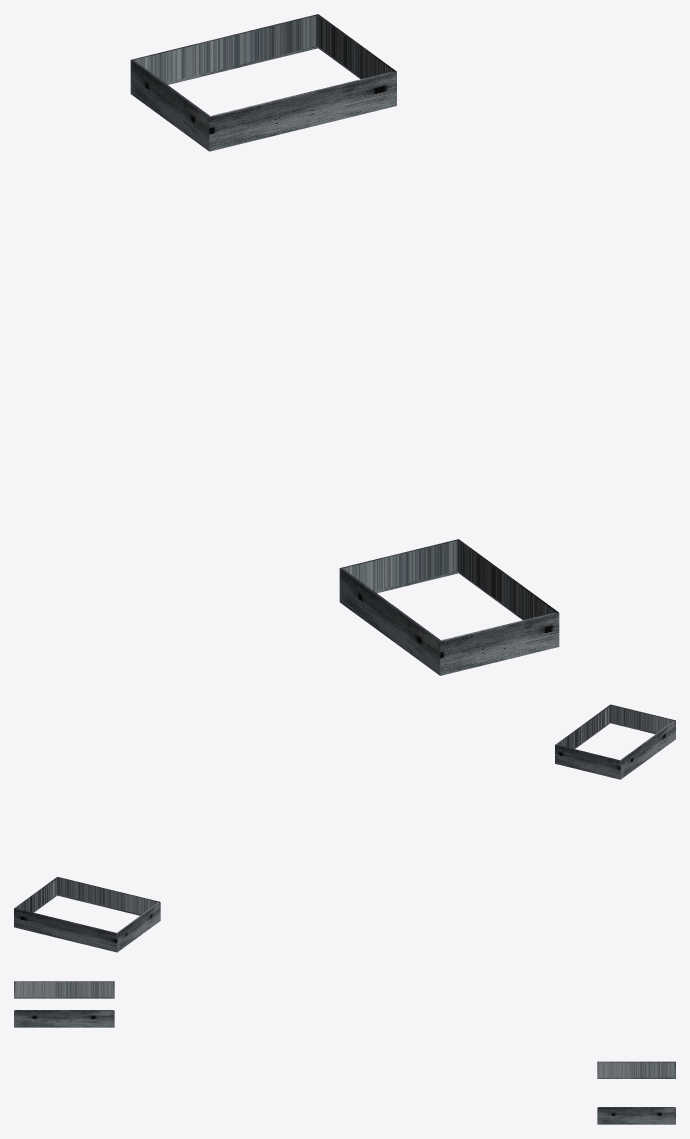
File: store_20.obj
The picture shows the model from 3 angles, top to bottom: view 1: azimuth 30°, elevation 25°; view 2: azimuth 150°, elevation 25°; view 3: azimuth 270°, elevation 25°; orthographic projection. The views are drawn at different scales.
Bounding box in the file's own units: 112 × 9 × 237.
